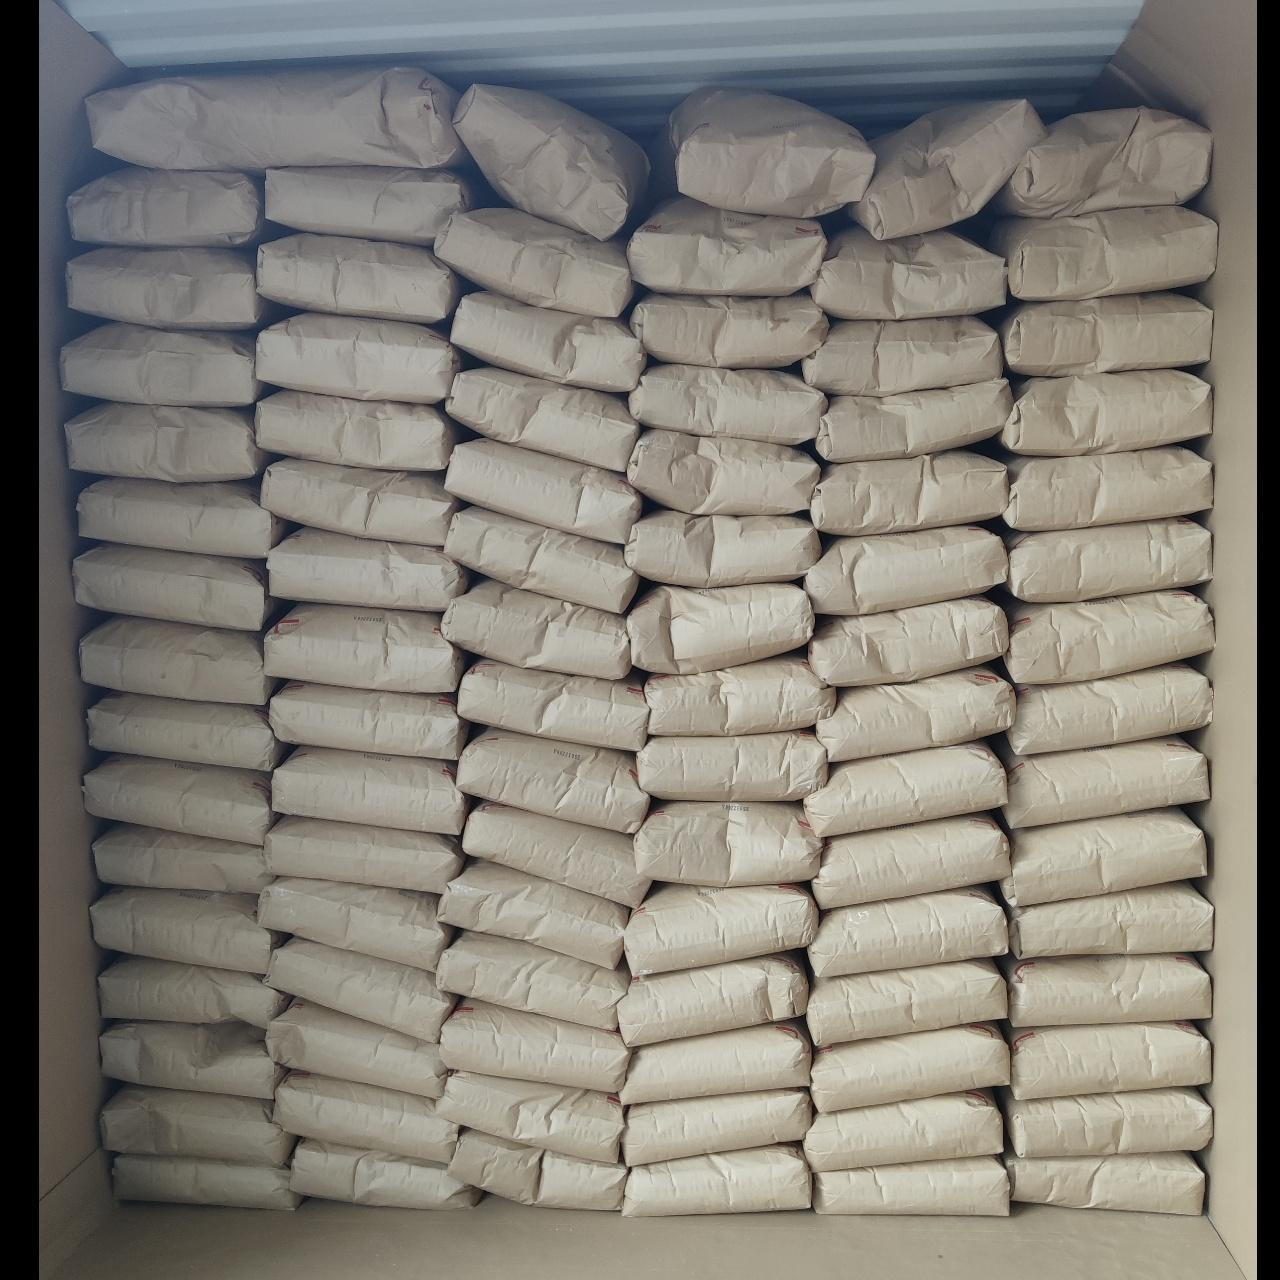sack: (91, 66, 464, 170), (454, 86, 646, 238), (850, 100, 1044, 238), (654, 90, 870, 215), (996, 108, 1210, 215), (980, 207, 1214, 300), (436, 207, 629, 316), (445, 366, 638, 470), (996, 735, 1210, 829), (448, 438, 640, 542), (445, 508, 638, 610), (438, 860, 628, 964), (1002, 808, 1206, 903), (452, 290, 644, 390), (1005, 590, 1212, 682), (629, 196, 822, 294), (462, 802, 646, 904), (458, 730, 646, 830), (804, 742, 1006, 835), (268, 938, 454, 1039), (436, 932, 626, 1028), (813, 813, 1006, 908), (442, 580, 629, 678), (1008, 663, 1210, 754), (258, 234, 462, 322), (810, 226, 1006, 318), (258, 312, 462, 399), (818, 668, 1014, 758), (440, 998, 629, 1090), (806, 526, 1006, 614), (1000, 370, 1210, 454), (1000, 292, 1210, 374), (808, 598, 1006, 685), (74, 544, 274, 629), (620, 954, 806, 1046), (808, 960, 1006, 1046), (626, 884, 813, 974), (1002, 445, 1210, 526), (810, 888, 1006, 974), (80, 617, 275, 702), (266, 604, 464, 688), (256, 390, 464, 470), (268, 1000, 445, 1094), (812, 1024, 1006, 1110), (62, 322, 264, 404), (260, 880, 452, 966), (68, 248, 280, 326), (459, 660, 646, 748), (812, 450, 1006, 535), (270, 527, 468, 610), (79, 478, 288, 556), (272, 748, 468, 830), (266, 168, 476, 244), (264, 459, 458, 542), (816, 377, 1010, 459), (628, 584, 812, 670), (436, 1073, 622, 1158), (91, 888, 282, 972), (634, 802, 822, 886), (84, 756, 272, 840), (1006, 520, 1210, 598), (274, 1073, 454, 1160), (646, 652, 835, 734), (70, 166, 264, 246), (618, 1022, 810, 1102), (628, 430, 818, 510), (632, 365, 822, 444), (626, 508, 818, 586), (270, 682, 468, 758), (68, 402, 266, 478), (88, 692, 284, 768), (266, 816, 462, 892), (102, 1085, 292, 1164), (1008, 884, 1212, 956), (804, 316, 1000, 392), (806, 1092, 1002, 1166), (629, 294, 826, 366), (624, 1090, 812, 1164), (102, 1022, 284, 1098), (1010, 1024, 1210, 1094), (448, 1130, 626, 1206), (1005, 956, 1210, 1022), (1005, 1090, 1210, 1156), (100, 956, 286, 1026), (638, 730, 826, 798), (290, 1138, 478, 1206), (622, 1146, 810, 1214), (94, 824, 272, 894), (1006, 1152, 1204, 1212), (813, 1156, 1006, 1214), (114, 1156, 300, 1206)
